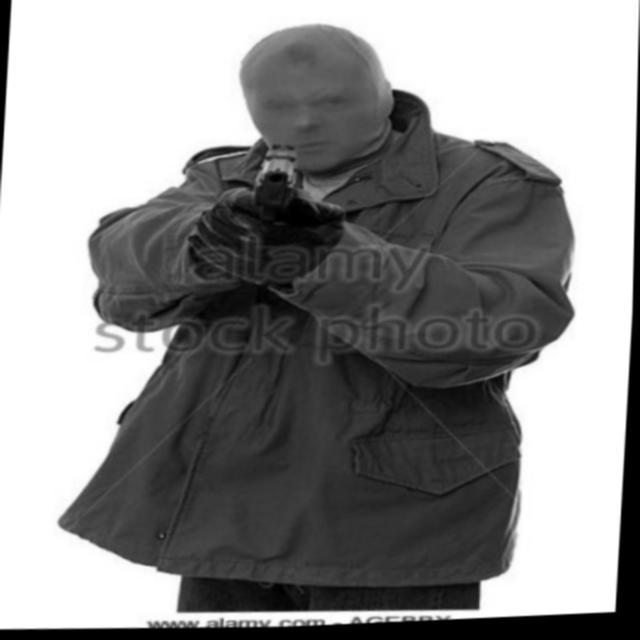weapon: (250, 142, 300, 218)
